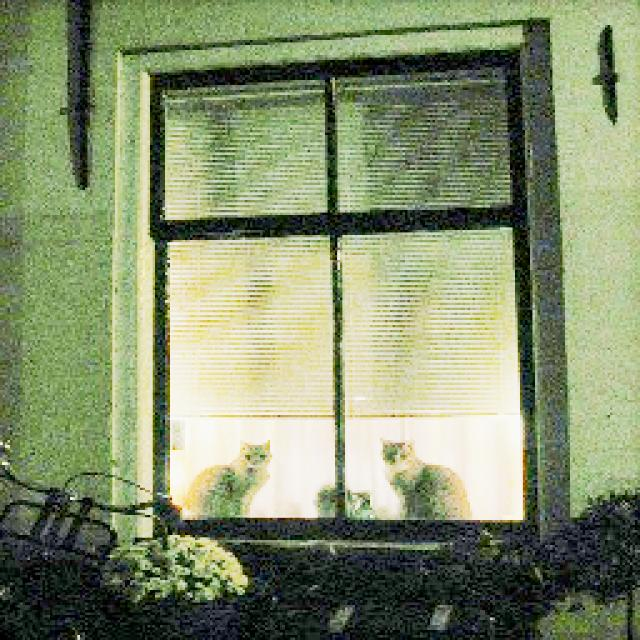cat: (362, 425, 489, 526), (171, 426, 279, 520)
